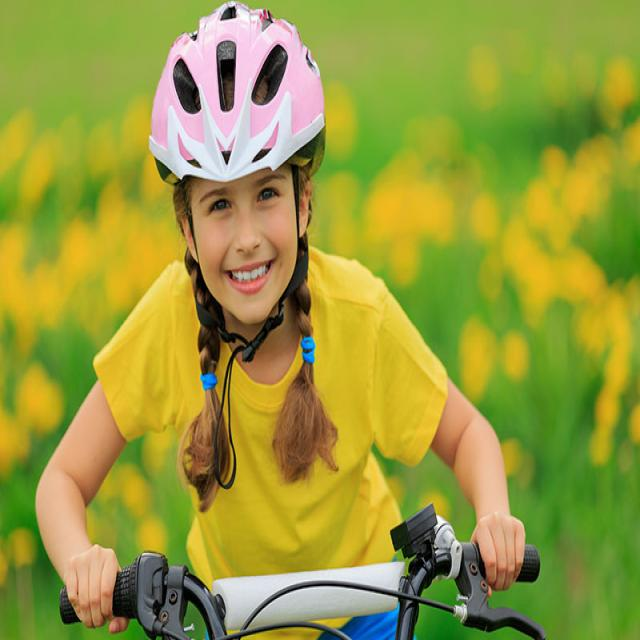illegal_helmet: (142, 1, 334, 332)
